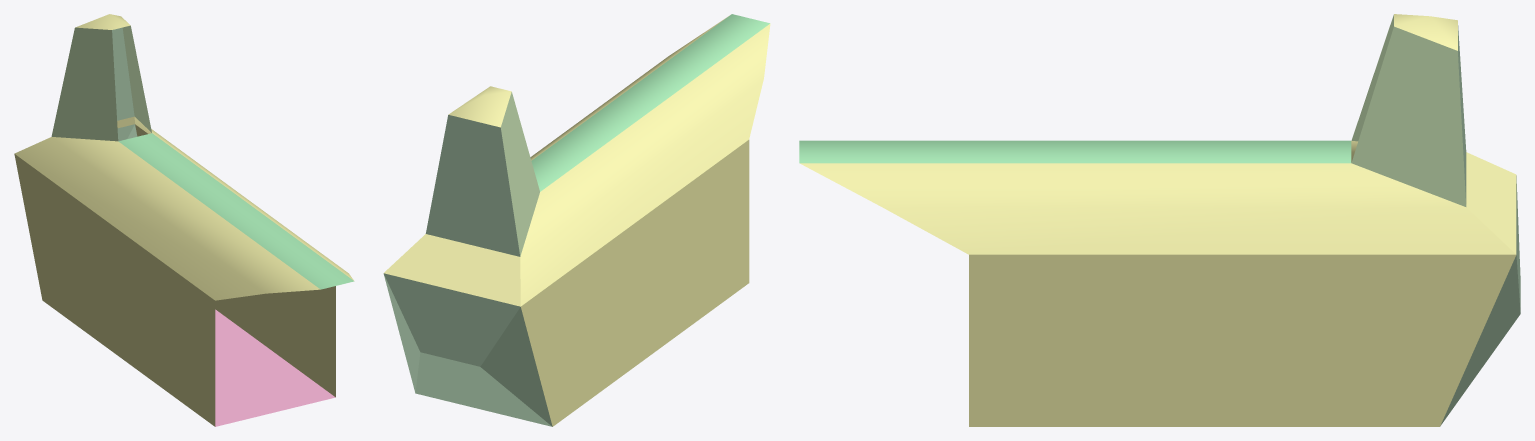
3 renders of one model, left to right at view 1: azimuth 30°, elevation 25°; view 2: azimuth 150°, elevation 25°; view 3: azimuth 270°, elevation 25°, orthographic. The views are drawn at different scales.
Parts seen in each view (by area): view 1: Object34; view 2: Object34; view 3: Object34.
Boxes of the visible parts, x1,y1,x2,y2 form: Object34: (14,14,354,426); Object34: (383,14,770,426); Object34: (799,14,1520,426).
Bounding box in the file's own units: 10000 × 21654 × 37967.
